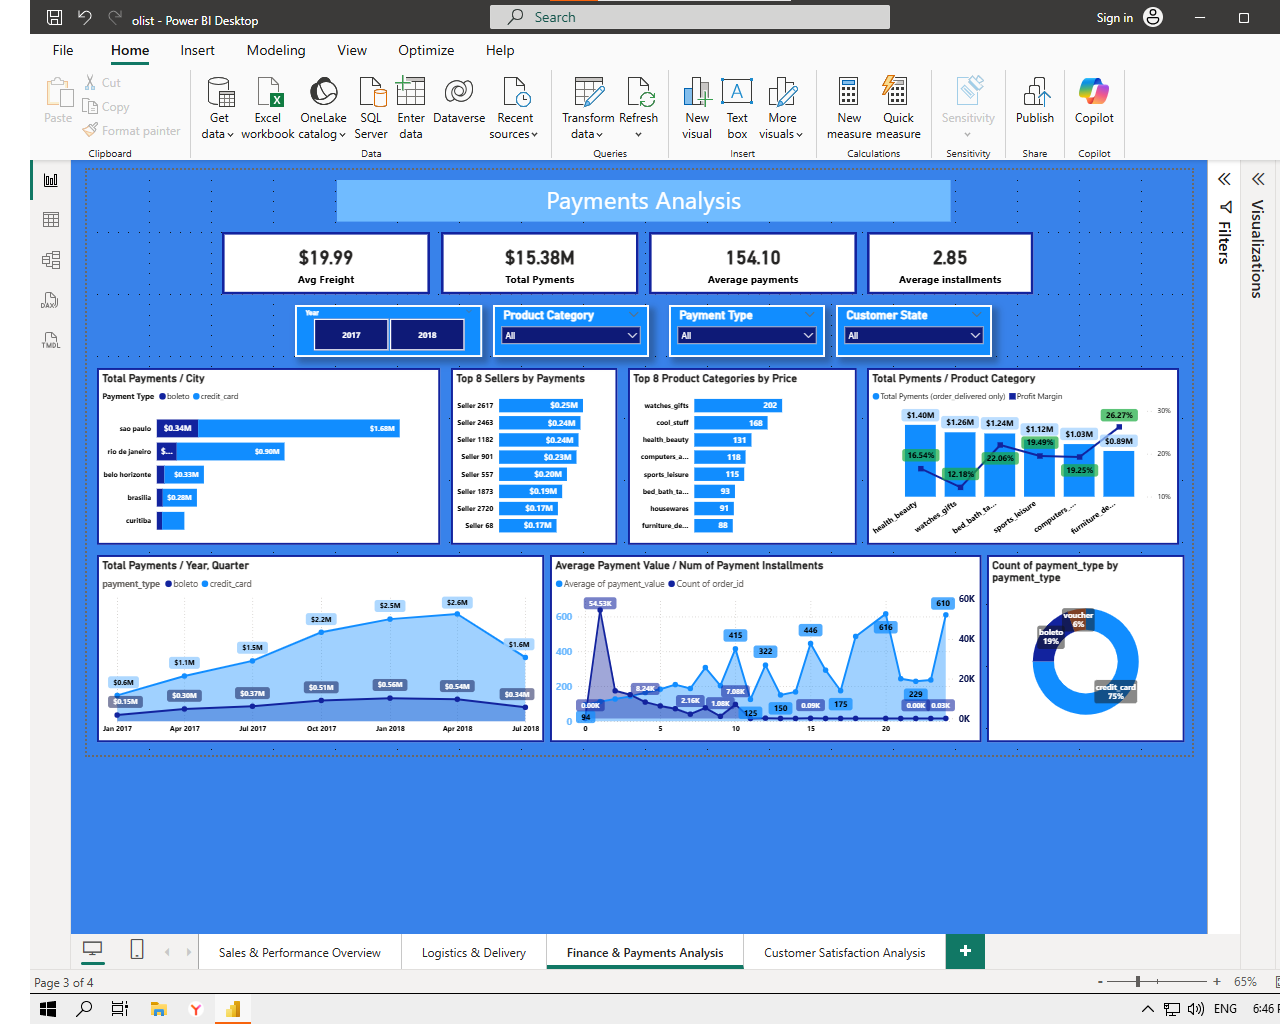

The dashboard page shown, as its layout file describes it:
{"tool":"powerbi","page":{"name":"Finance & Payments Analysis","canvas":[1700,900],"ordinal":2},"visuals":[{"type":"lineClusteredColumnComboChart","title":"Total Pyments / Product Category","fields":{"Y":["Mesures.Total Pyments (order_delivered only)"],"Y2":["Mesures.Profit Margin"],"Category":["product_category_translation.product_category_name_english"]},"box":[1200,304,480,272],"z":0},{"type":"donutChart","fields":{"Category":["payments.payment_type"],"Y":["CountNonNull(payments.payment_type)"]},"box":[1384,592,304,288],"z":1000},{"type":"areaChart","title":"Total Payments / Year, Quarter ","fields":{"Y":["Mesures.Total Pyments (order_delivered only)"],"Category":["orders_status.order_approved_at.Variation.Date Hierarchy.Year","orders_status.order_approved_at.Variation.Date Hierarchy.Quarter"],"Series":["payments.payment_type"]},"box":[16,592,688,288],"z":2000},{"type":"barChart","title":"Total Payments / City ","fields":{"Category":["customers.customer_city"],"Y":["Mesures.Total Pyments (order_delivered only)"],"Series":["payments.payment_type"]},"box":[16,304,528,272],"z":3000},{"type":"areaChart","title":"Average Payment Value / Num of Payment Installments","fields":{"Category":["payments.payment_installments"],"Y":["Avg(payments.payment_value)"],"Y2":["CountNonNull(order_items (Fact).order_id)"]},"box":[712,592,664,288],"z":4000},{"type":"textbox","box":[384,16,944,64],"z":5000},{"type":"card","fields":{"Values":["Mesures.Avg_Freight"]},"box":[208,96,320,96],"z":6000},{"type":"card","fields":{"Values":["Mesures.Total Pyments (order_delivered only)"]},"box":[544,96,304,96],"z":7000},{"type":"card","fields":{"Values":["Avg(payments.payment_value)"]},"box":[864,96,320,96],"z":8000},{"type":"card","fields":{"Values":["Avg(payments.payment_installments)"]},"box":[1200,96,256,96],"z":9000},{"type":"barChart","title":"Top 8 Sellers by Payments","fields":{"Category":["sellers.Seller Code"],"Y":["Mesures.Total Pyments (order_delivered only)"]},"box":[560,304,256,272],"z":10000},{"type":"slicer","fields":{"Values":["orders_status.purchase_time.Variation.Date Hierarchy.Year"]},"box":[320,208,288,80],"z":11000},{"type":"slicer","fields":{"Values":["product_category_translation.product_category_name_english"]},"box":[624,208,240,80],"z":12000},{"type":"slicer","fields":{"Values":["payments.payment_type"]},"box":[896,208,240,80],"z":13000},{"type":"slicer","fields":{"Values":["customers.customer_state"]},"box":[1152,208,240,80],"z":14000},{"type":"clusteredBarChart","title":"Top 8 Product Categories by Price","fields":{"Category":["product_category_translation.product_category_name_english"],"Y":["Avg(order_items (Fact).price)"]},"box":[832,304,352,272],"z":15000}]}

Visuals, with their boxes on the page's 1700x900 design canvas (x1, y1, x2, y2). These are canvas units, not pixel positions in the 1280x1024 screenshot, which may show the page scaled, cropped or inside an application window:
"Total Pyments / Product Category" lineClusteredColumnComboChart: BBox(1200, 304, 1680, 576)
donutChart - payments.payment_type x CountNonNull(payments.payment_type): BBox(1384, 592, 1688, 880)
"Total Payments / Year, Quarter " areaChart: BBox(16, 592, 704, 880)
"Total Payments / City " barChart: BBox(16, 304, 544, 576)
"Average Payment Value / Num of Payment Installments" areaChart: BBox(712, 592, 1376, 880)
textbox: BBox(384, 16, 1328, 80)
card - Mesures.Avg_Freight: BBox(208, 96, 528, 192)
card - Mesures.Total Pyments (order_delivered only): BBox(544, 96, 848, 192)
card - Avg(payments.payment_value): BBox(864, 96, 1184, 192)
card - Avg(payments.payment_installments): BBox(1200, 96, 1456, 192)
"Top 8 Sellers by Payments" barChart: BBox(560, 304, 816, 576)
slicer - orders_status.purchase_time.Variation.Date Hierarchy.Year: BBox(320, 208, 608, 288)
slicer - product_category_translation.product_category_name_english: BBox(624, 208, 864, 288)
slicer - payments.payment_type: BBox(896, 208, 1136, 288)
slicer - customers.customer_state: BBox(1152, 208, 1392, 288)
"Top 8 Product Categories by Price" clusteredBarChart: BBox(832, 304, 1184, 576)
